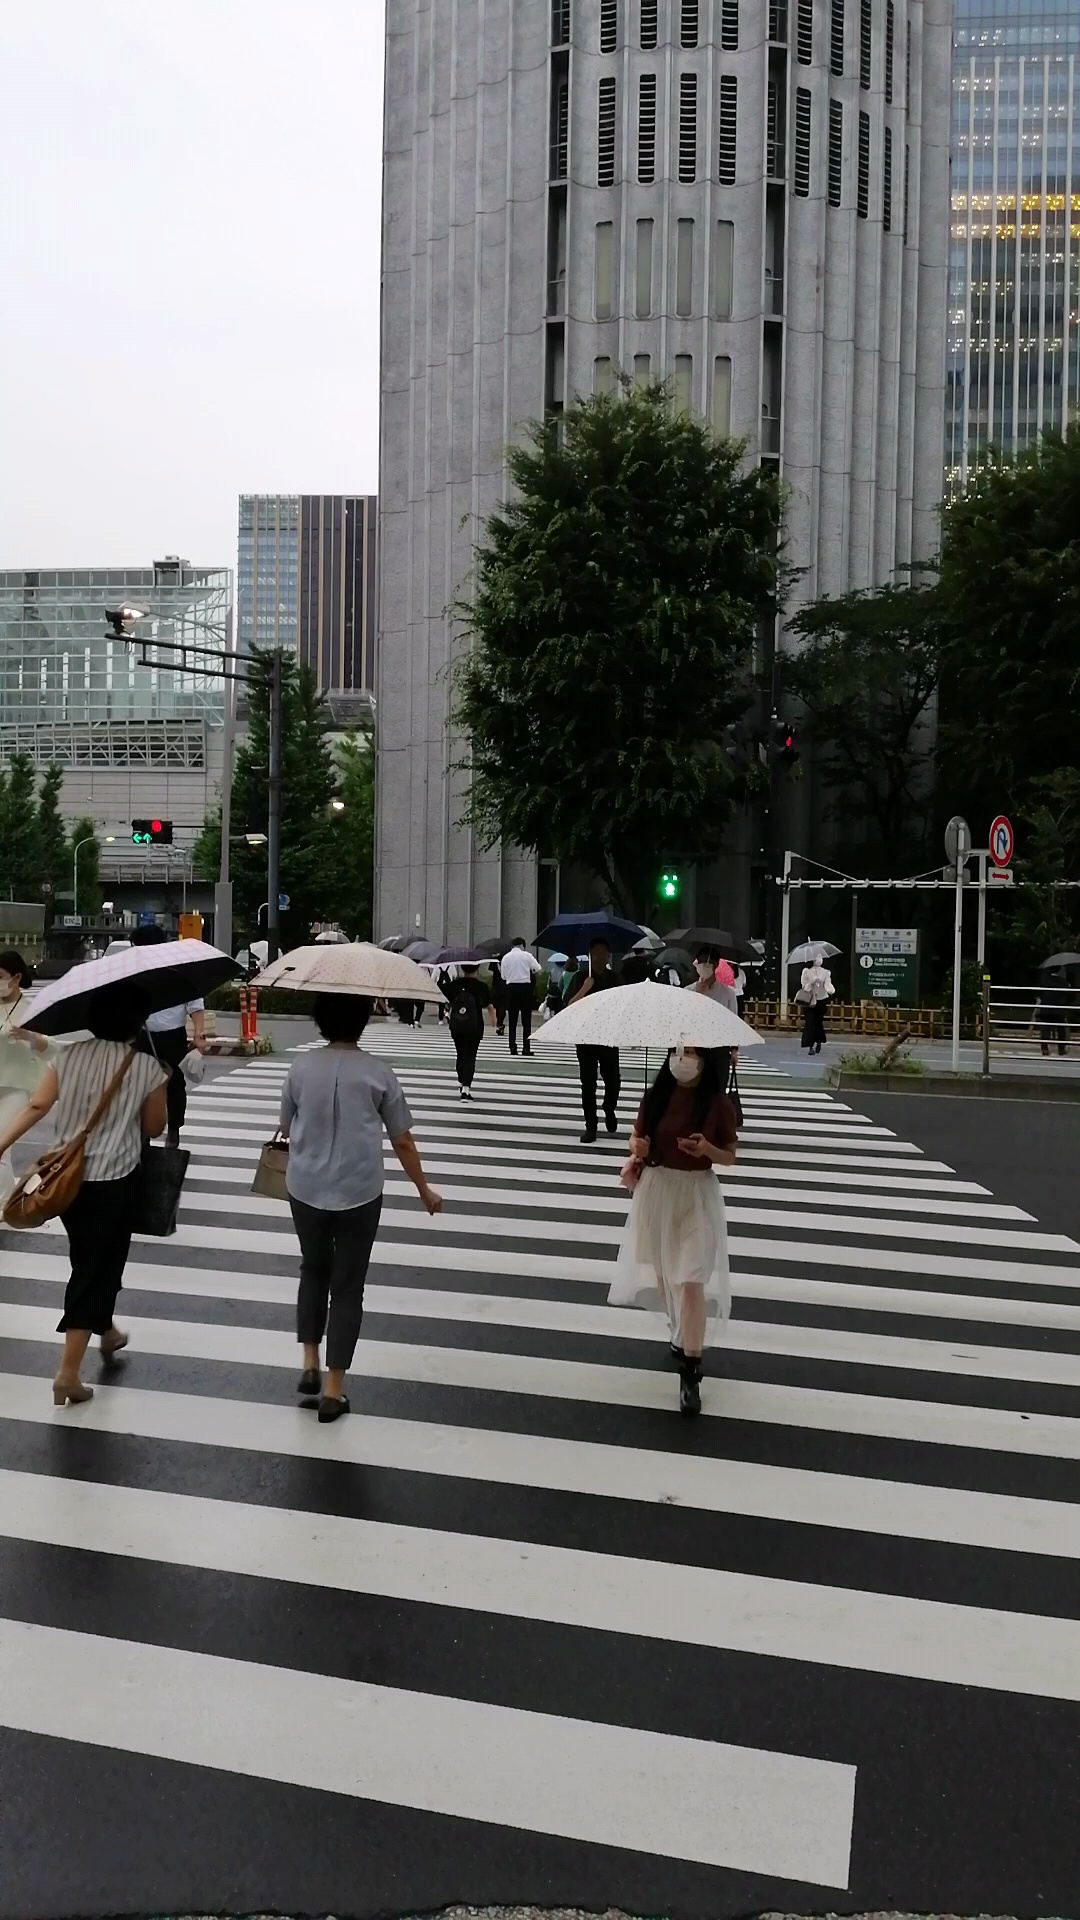green: (658, 862, 680, 899)
